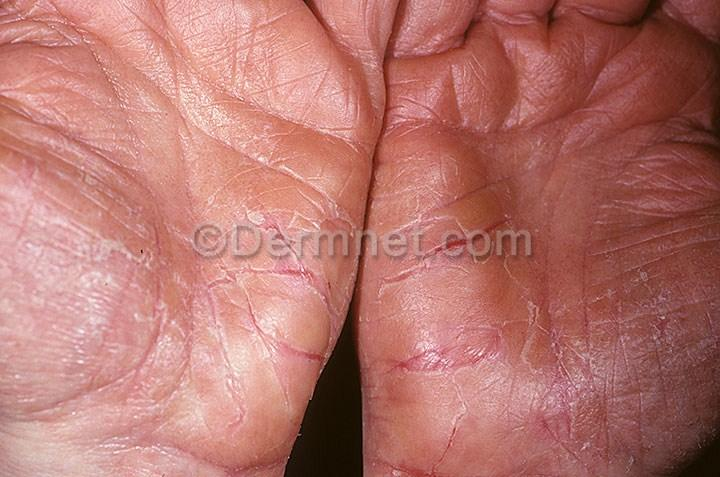Eczema: (413, 258, 504, 334), (9, 238, 98, 313), (68, 318, 139, 412), (210, 330, 280, 415), (625, 222, 691, 309), (91, 126, 175, 194), (472, 132, 567, 190), (563, 132, 624, 222), (0, 305, 72, 378), (6, 177, 88, 241), (187, 379, 246, 467), (88, 268, 156, 343), (3, 358, 67, 436), (133, 378, 197, 455), (7, 126, 99, 178), (57, 423, 152, 473), (286, 7, 345, 87), (183, 142, 250, 212), (93, 204, 164, 269), (581, 235, 634, 322), (650, 126, 689, 243), (520, 237, 590, 302), (63, 1, 129, 68), (415, 338, 491, 396), (567, 342, 624, 419), (506, 267, 569, 336), (481, 57, 540, 129), (129, 329, 206, 384), (305, 196, 353, 282), (75, 71, 154, 123), (475, 433, 575, 473), (206, 103, 263, 171), (398, 54, 475, 104), (243, 1, 299, 68), (258, 273, 323, 330), (493, 337, 564, 389), (666, 313, 712, 393), (149, 280, 213, 335), (436, 162, 519, 204), (619, 127, 657, 218), (684, 142, 720, 237), (363, 262, 420, 322), (256, 78, 312, 138), (272, 333, 318, 406), (240, 409, 290, 476), (368, 196, 422, 258), (270, 140, 329, 196), (201, 218, 251, 284), (133, 0, 191, 55), (259, 211, 306, 278), (396, 124, 460, 173), (203, 276, 258, 333), (160, 200, 201, 275), (606, 0, 655, 62), (620, 59, 662, 131), (450, 397, 513, 445), (7, 80, 77, 123), (510, 12, 562, 69), (622, 326, 664, 396), (424, 194, 472, 255), (468, 206, 515, 268), (566, 0, 607, 71), (367, 389, 434, 432), (652, 18, 698, 80), (657, 395, 719, 441), (671, 75, 709, 149), (407, 18, 469, 63), (512, 191, 568, 240), (360, 323, 413, 373), (159, 63, 201, 126), (192, 60, 258, 100), (316, 96, 357, 160), (194, 2, 239, 60), (239, 169, 296, 214), (352, 37, 388, 107), (628, 398, 666, 464), (512, 393, 571, 435), (575, 426, 623, 477), (542, 70, 582, 131), (466, 9, 516, 54), (582, 60, 616, 126), (398, 98, 456, 135), (380, 146, 421, 197), (419, 442, 475, 477), (694, 243, 718, 323), (2, 44, 61, 76), (315, 278, 344, 336), (10, 4, 60, 37), (333, 166, 364, 214), (360, 450, 414, 477), (354, 0, 392, 38), (352, 103, 376, 135)
